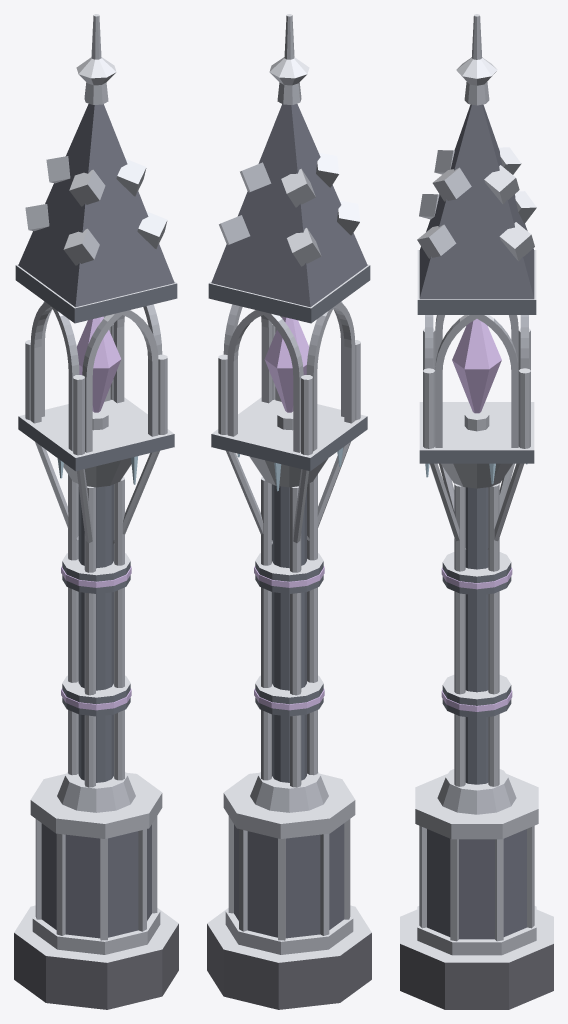
Rendered from PR_Coluna_Bobinas.fbx.
3 views of the same model, side by side, from view 1: azimuth 30°, elevation 25°; view 2: azimuth 150°, elevation 25°; view 3: azimuth 270°, elevation 25° (orthographic).
Visible parts, largest first — view 1: PR_Coluna_Bobinas; view 2: PR_Coluna_Bobinas; view 3: PR_Coluna_Bobinas.
Boxes of the visible parts, <box> form: PR_Coluna_Bobinas: <box>14,14,178,1009</box>; PR_Coluna_Bobinas: <box>207,14,371,1009</box>; PR_Coluna_Bobinas: <box>400,14,553,1009</box>.
Bounding box in the file's own units: 1.48 × 10.19 × 1.48.
